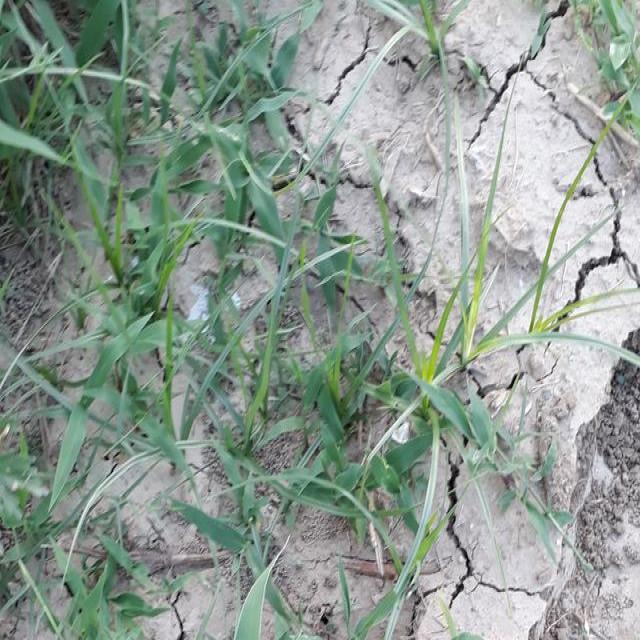weed: (0, 0, 315, 563), (334, 308, 472, 545)
